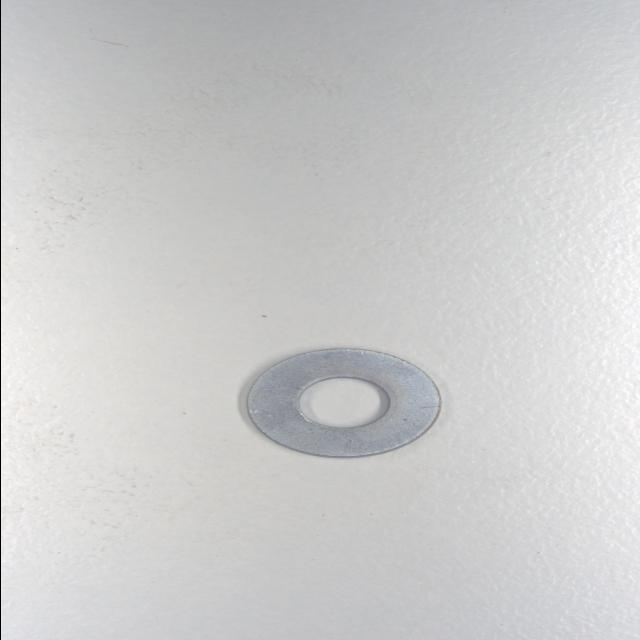washer: (245, 346, 442, 458)
